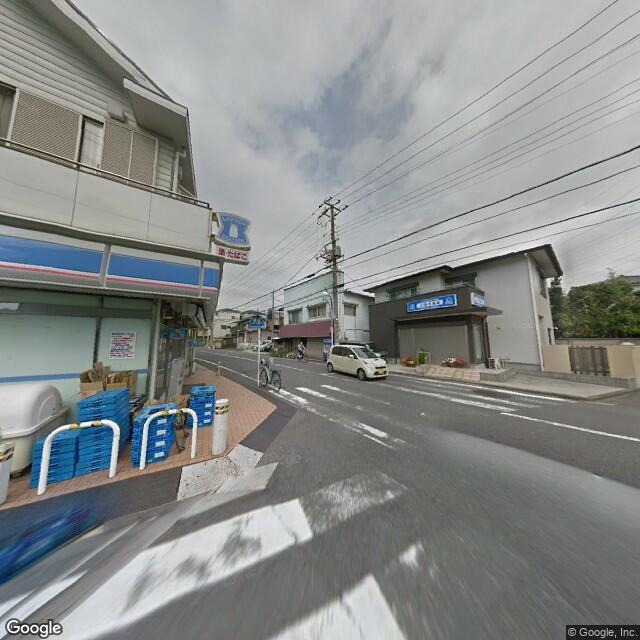lawson: (4, 226, 218, 311), (214, 207, 251, 250)
